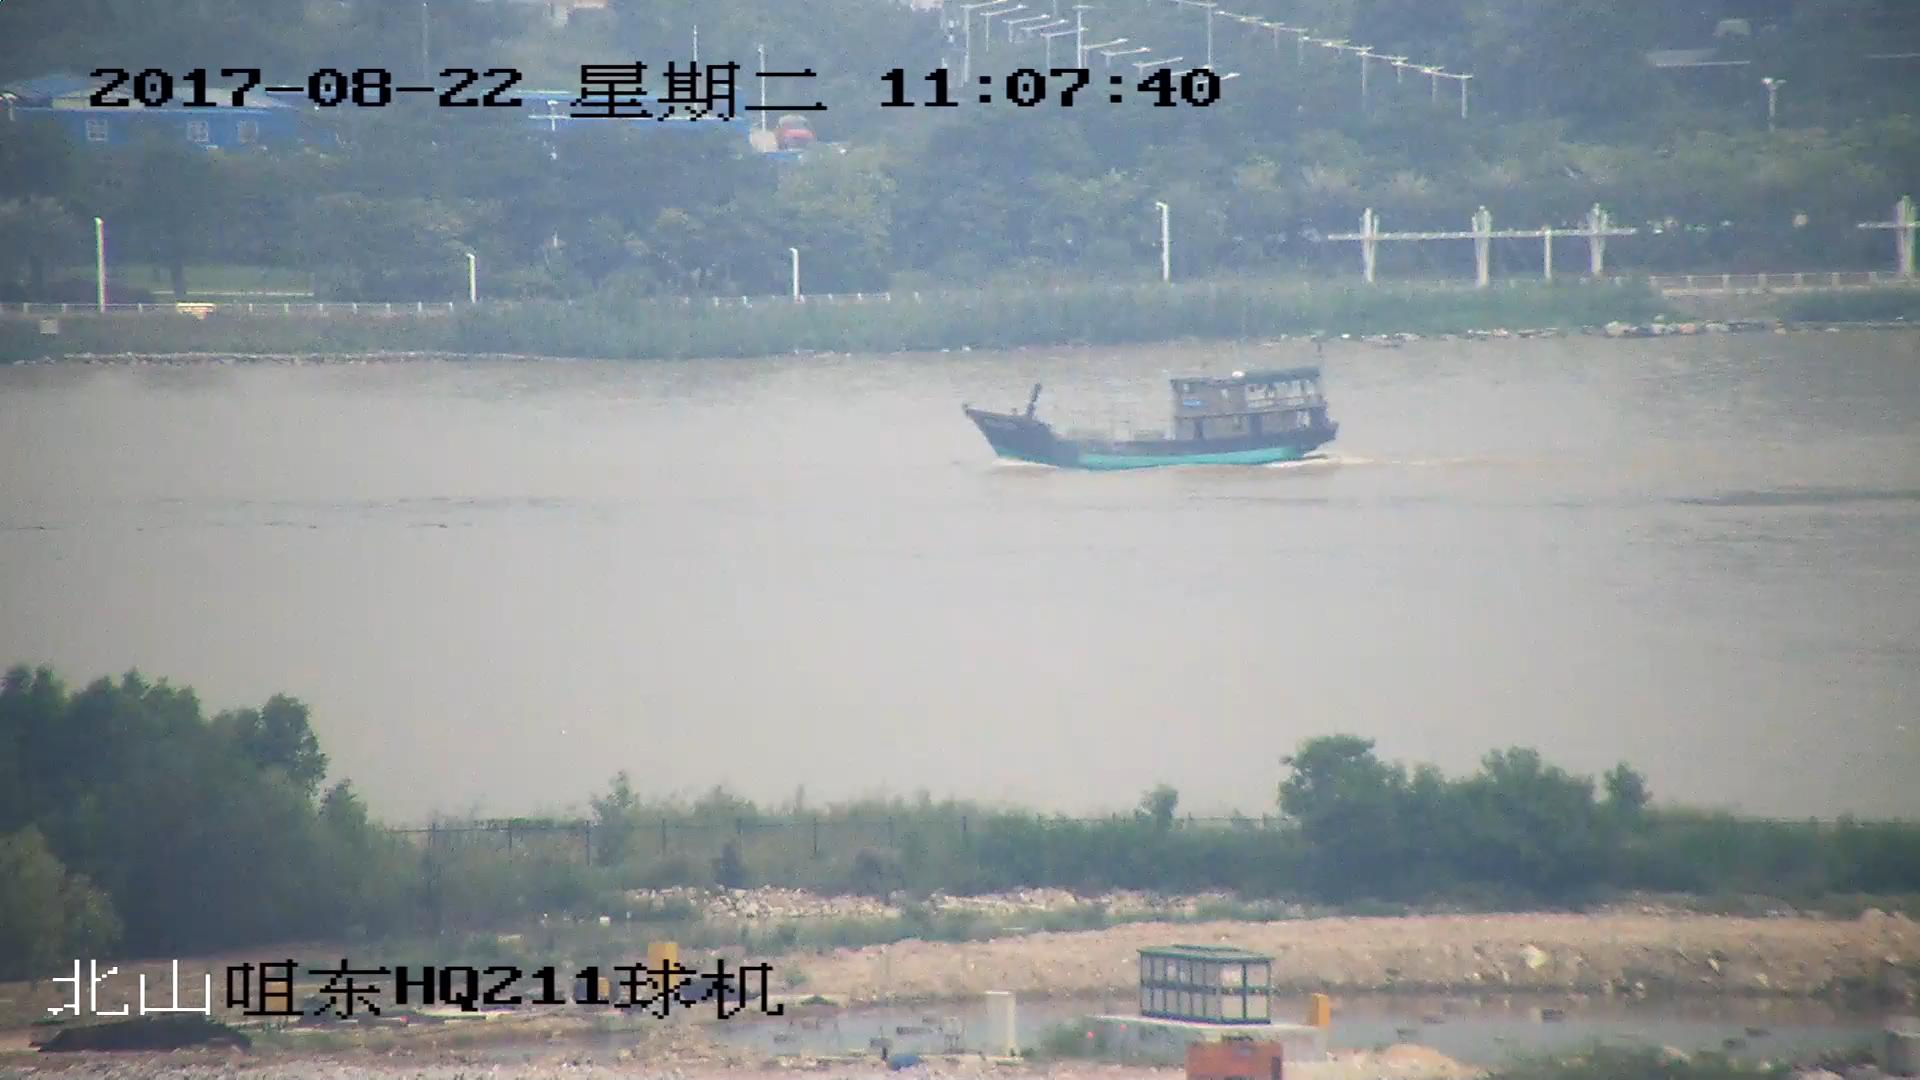fishing boat: (971, 374, 1342, 472)
